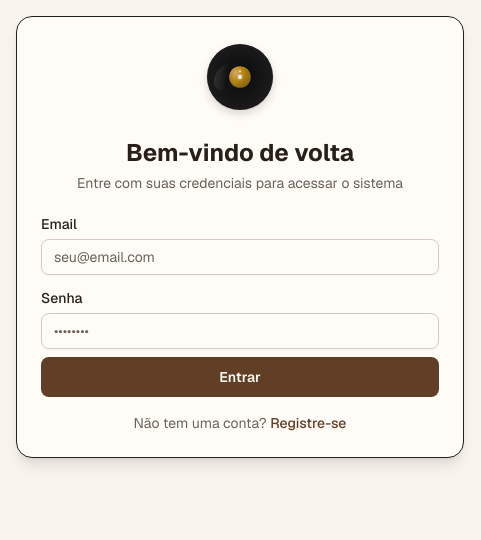
Test: LoginPage › validação de email › should show error for empty email
Click the button "Entrar": (240, 377) [41,357,439,397]
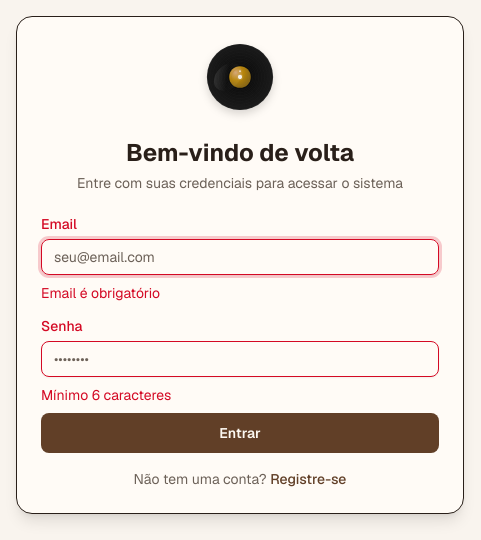
Check: the text "Email é obrigatório" is shown, box [41,284,160,302]
